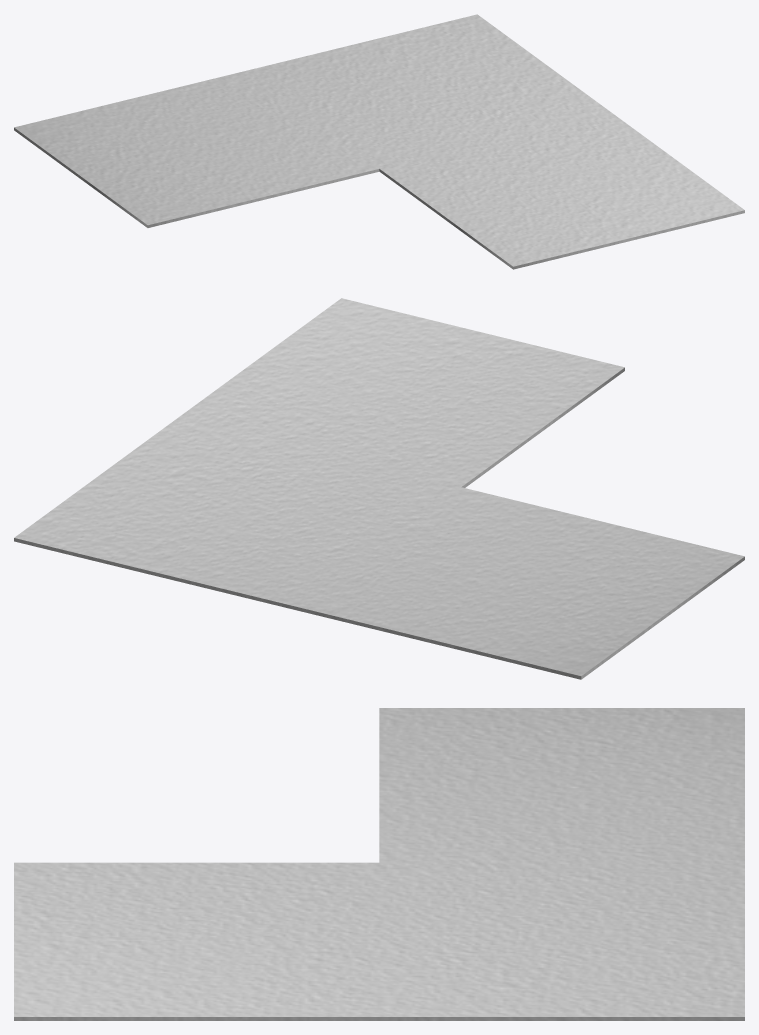
File: Stage1_1f_ceiling.FBX
3 views of the same model, one above another, from view 1: azimuth 30°, elevation 25°; view 2: azimuth 150°, elevation 25°; view 3: azimuth 270°, elevation 25° (orthographic). The views are drawn at different scales.
Parts seen in each view (by area): view 1: Box001; view 2: Box001; view 3: Box001.
Part boxes in pixels (left/top/right/bottom): Box001: left=14, top=14, right=744, bottom=269; Box001: left=14, top=298, right=744, bottom=679; Box001: left=14, top=708, right=744, bottom=1020.
Size of the model in its own units: 5000 by 30 by 5000.
Materials: 1 (1 with a texture image).
